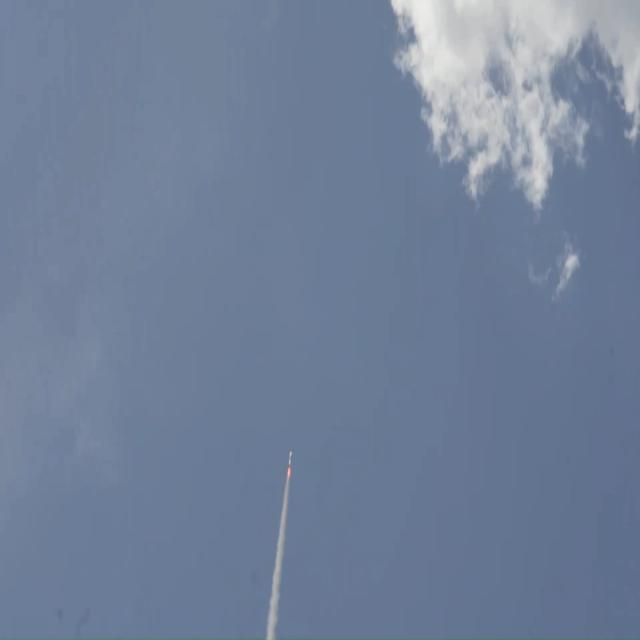Rocket: (288, 450, 292, 469)
